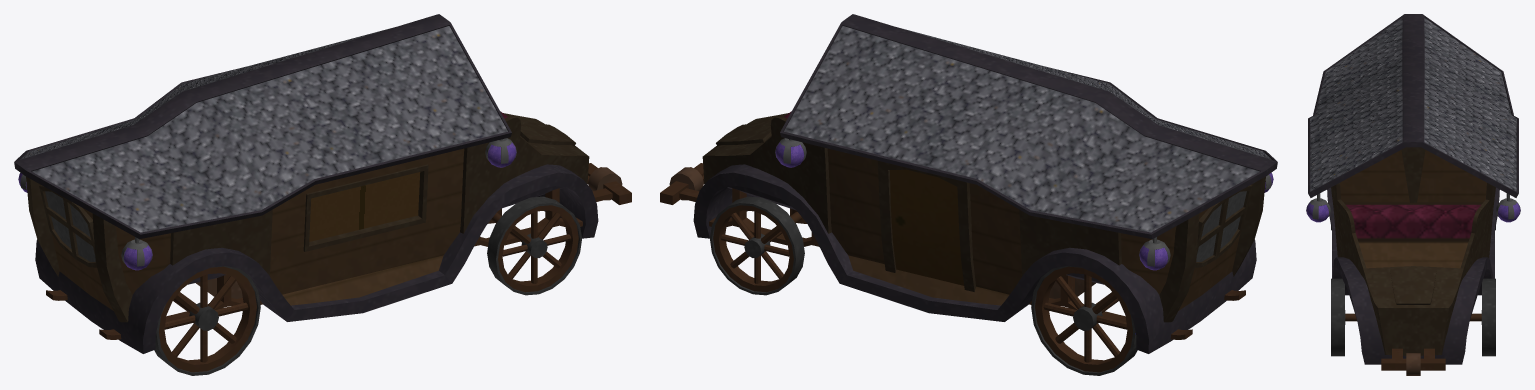
The model's file is MerchantsCart.fbx.
3 renders of one model, left to right at view 1: azimuth 30°, elevation 25°; view 2: azimuth 150°, elevation 25°; view 3: azimuth 270°, elevation 25°, orthographic. The views are drawn at different scales.
Parts seen in each view (by area): view 1: MerchantsCart, MerchantsCartW1.2, MerchantsCartW1, MerchantsCartL; view 2: MerchantsCart, MerchantsCartL; view 3: MerchantsCart, MerchantsCartL.
Part boxes in pixels (x1,y1,x2,y2): MerchantsCart: (14,14,631,375); MerchantsCartW1.2: (361,172,420,229); MerchantsCartW1: (309,186,363,241); MerchantsCartL: (18,138,516,270); MerchantsCart: (660,14,1277,375); MerchantsCartL: (775,138,1273,270); MerchantsCart: (1308,14,1518,375); MerchantsCartL: (1306,193,1520,222).
Bounding box in the file's own units: 781 × 310 × 309.
Materials: 4 (4 with a texture image).
